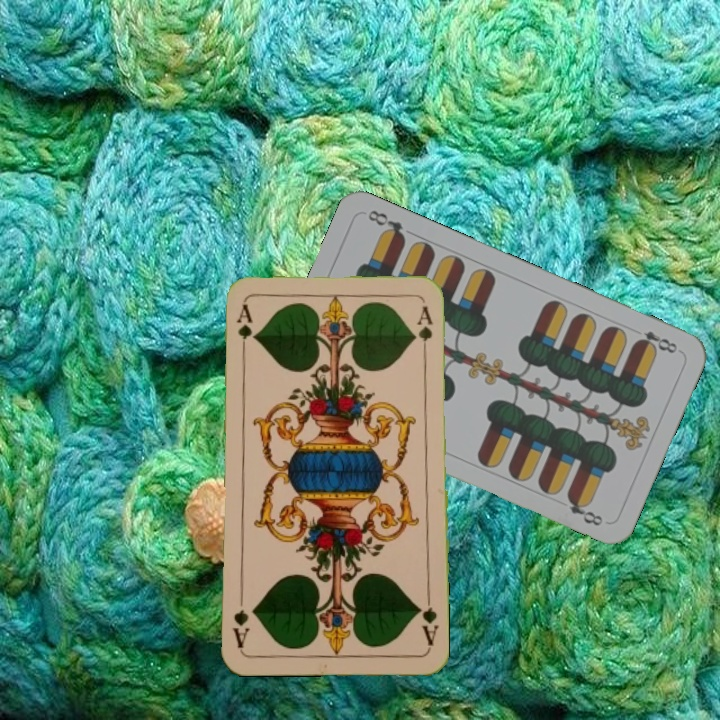E8: (631, 326, 683, 357)
GA: (414, 590, 441, 648), (232, 301, 254, 360)
